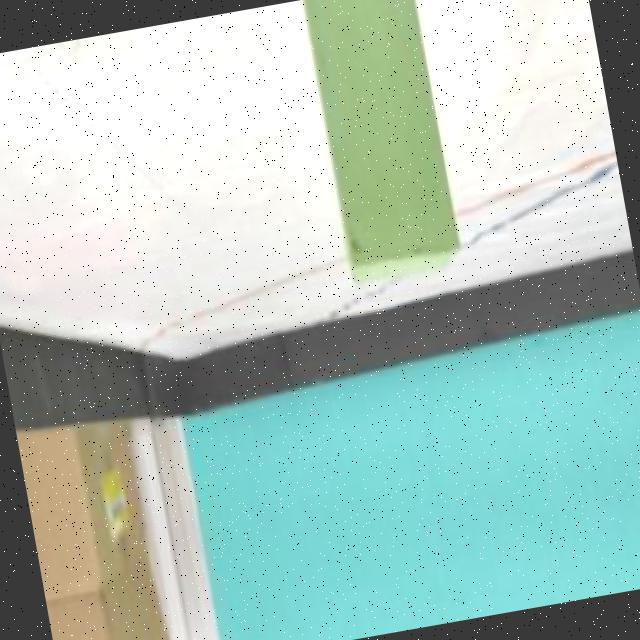greenbox: (297, 0, 466, 285)
